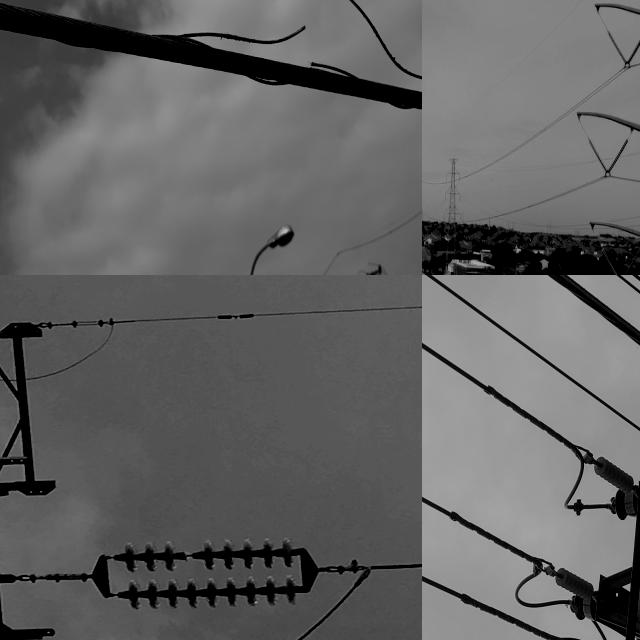杆塔: (437, 152, 464, 275)
正常电缆: (54, 298, 422, 333), (319, 557, 422, 580)
正常绝缘子: (97, 544, 320, 605), (527, 604, 555, 640), (606, 139, 629, 178), (588, 138, 610, 177), (607, 30, 629, 66), (600, 247, 619, 275), (622, 246, 640, 275), (625, 38, 640, 69)
电缆破损: (167, 0, 422, 129)
绝缘子破损: (180, 551, 200, 561)
